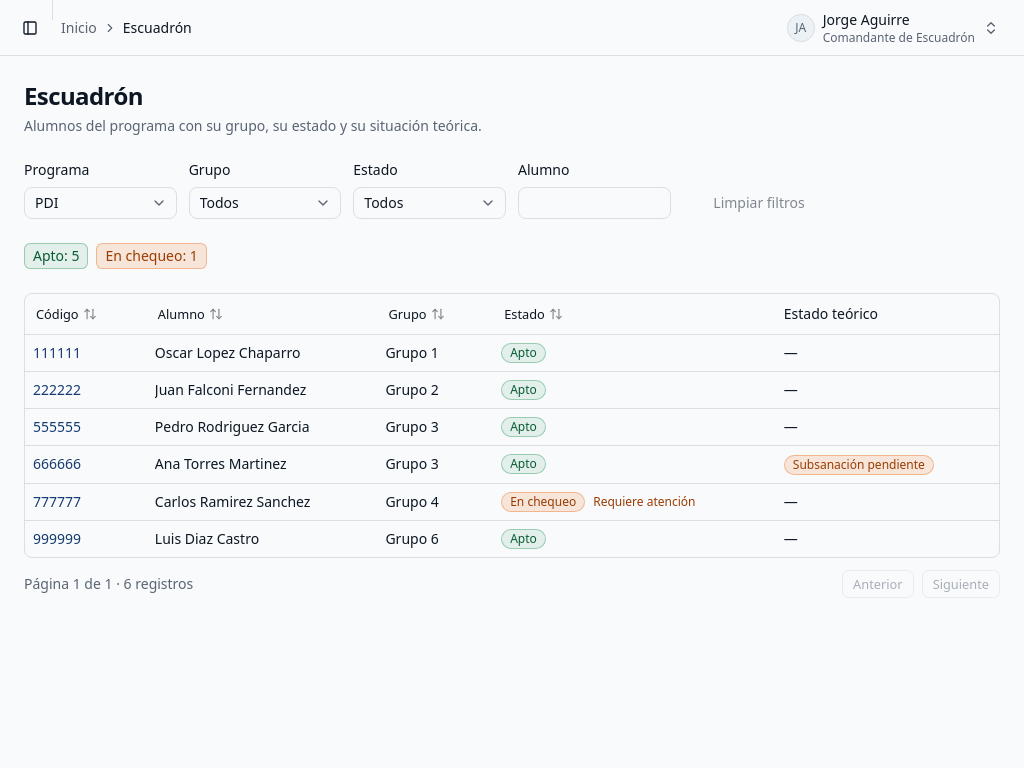
Test: Escuadrón: filtros › CA-SEG-02 el filtro de texto espera 300 ms tras la última tecla antes de navegar
Expected: the table named "Alumnos del escuadrón" is shown, [25,294,999,557]
Type "ram" into the field labelled "Alumno". click: coordinates (594, 203)
box: [518,187,671,219]
Wait 1000 ms
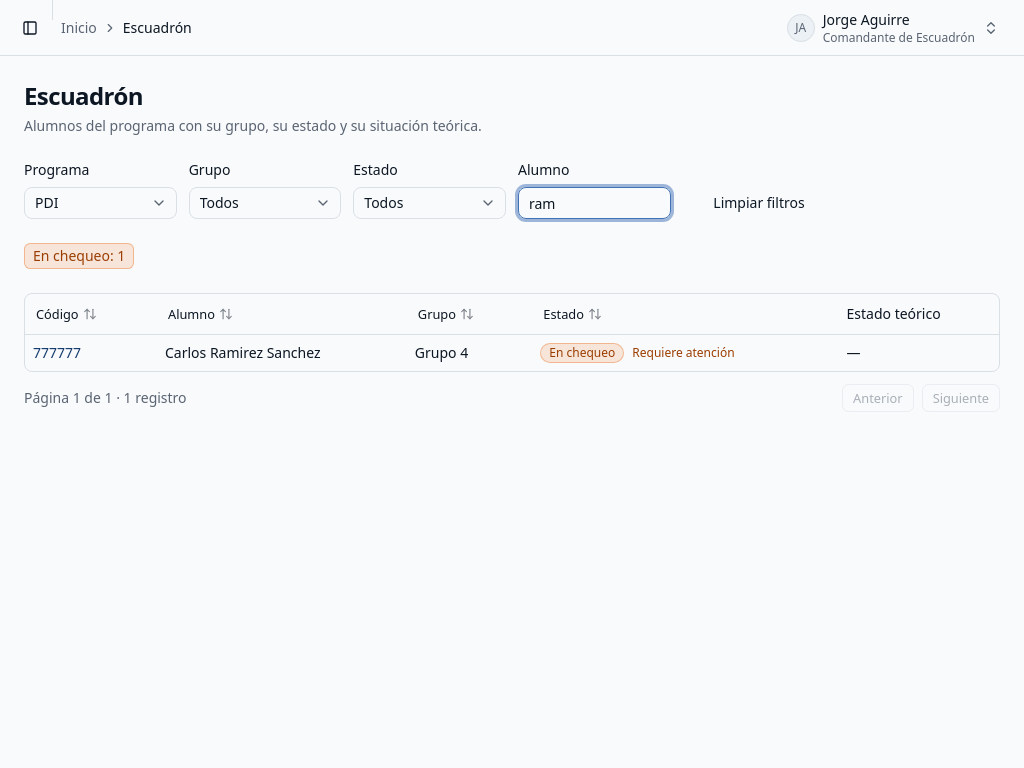
Expected: the number of rows is 2, [25,294,999,334]; [25,334,999,371]
